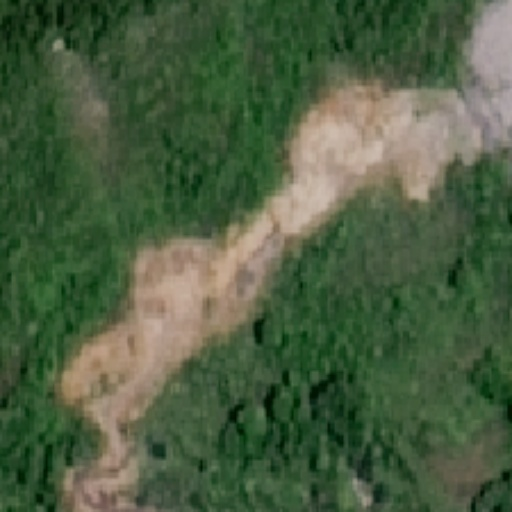landslide: (56, 3, 512, 501)
